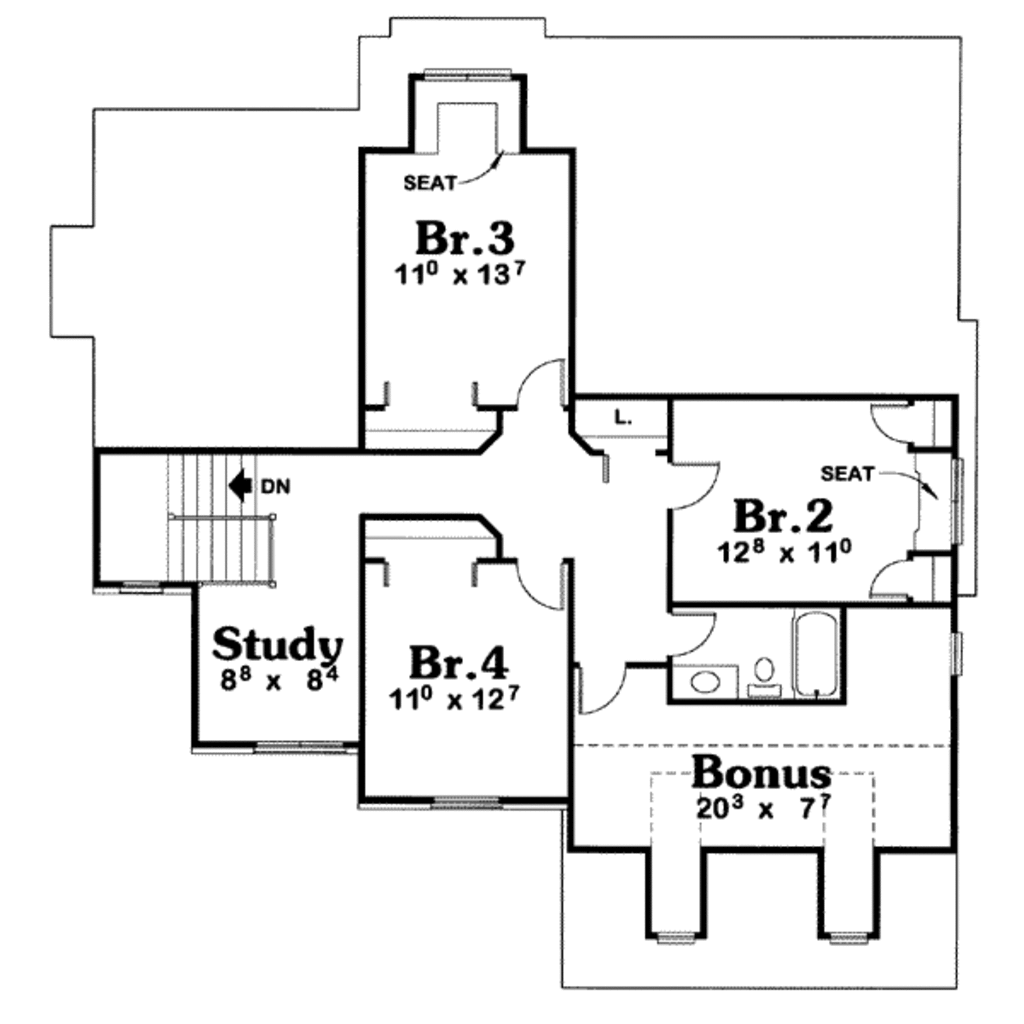door: (567, 661, 629, 720), (514, 554, 571, 615), (512, 356, 576, 408), (666, 602, 722, 659), (666, 459, 725, 509), (868, 395, 917, 453), (865, 556, 912, 607)
large_sink: (743, 648, 793, 709)
small_sink: (667, 662, 741, 699)
stairs: (93, 453, 297, 590)
tub: (791, 608, 848, 704)
window: (948, 455, 973, 546), (244, 734, 351, 755), (420, 65, 517, 87), (419, 793, 509, 816), (947, 624, 969, 685), (824, 926, 874, 949), (651, 928, 702, 945)
